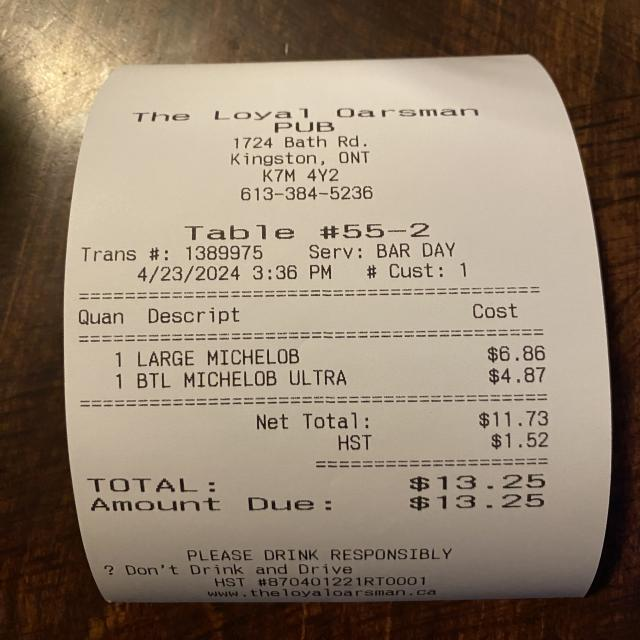item: (129, 341, 555, 368), (129, 364, 555, 390)
store_name: (125, 105, 496, 134)
total_amount: (80, 468, 558, 493)
transaction_date: (132, 259, 245, 289)
